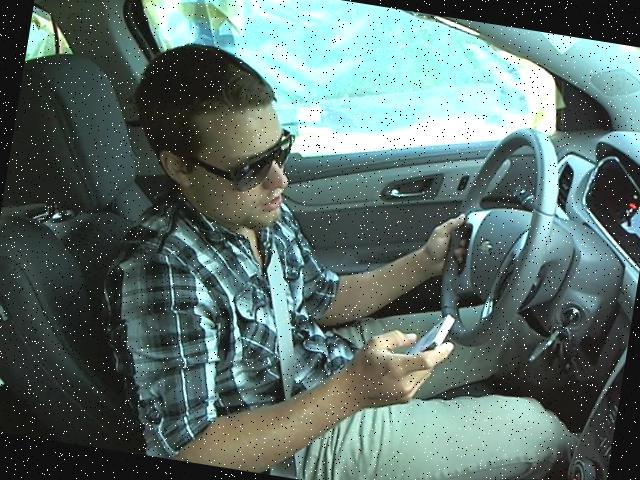c1 - Texting: (66, 27, 572, 479)
